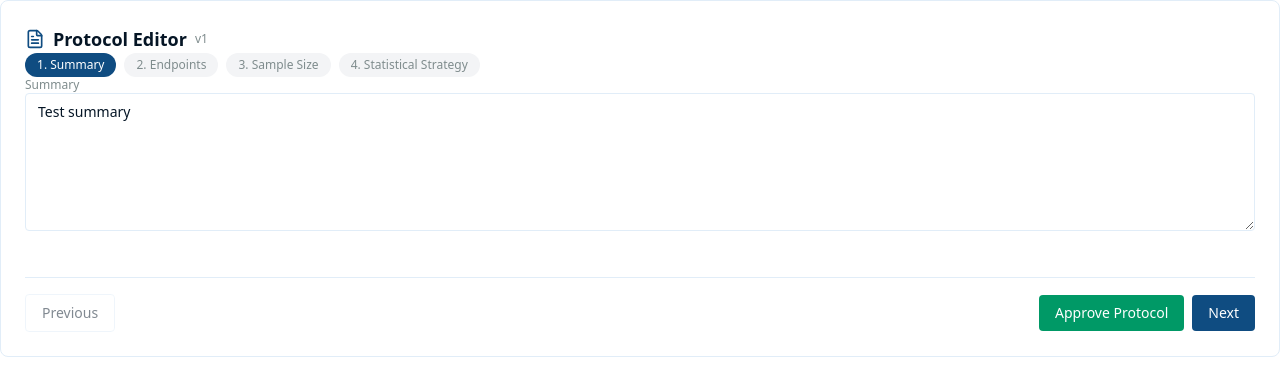
Test: ProtocolEditor › navigates to previous step
The width and height of the screenshot is (1280, 374).
Click the button with test id "next-btn". click: {"x": 1224, "y": 313}
box: [1192, 295, 1255, 331]
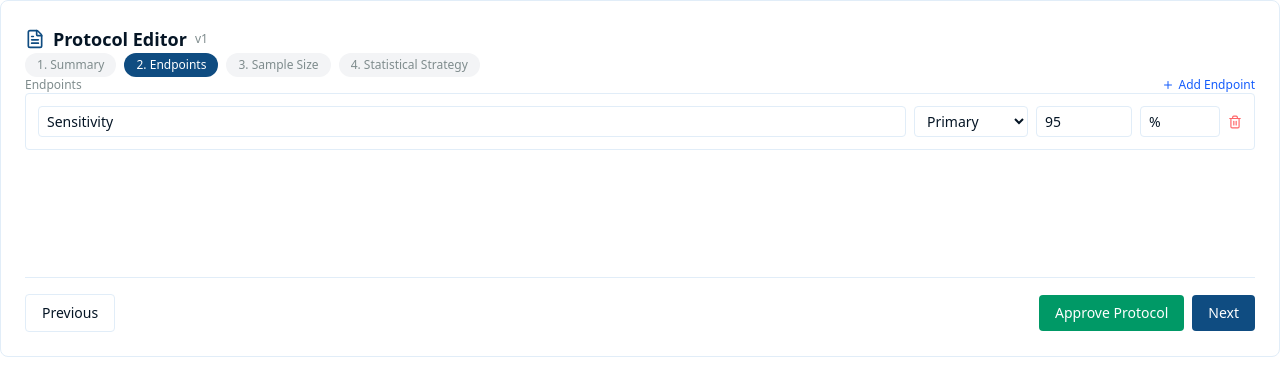
Click the button with test id "prev-btn". click: {"x": 70, "y": 313}
box: [25, 294, 115, 332]
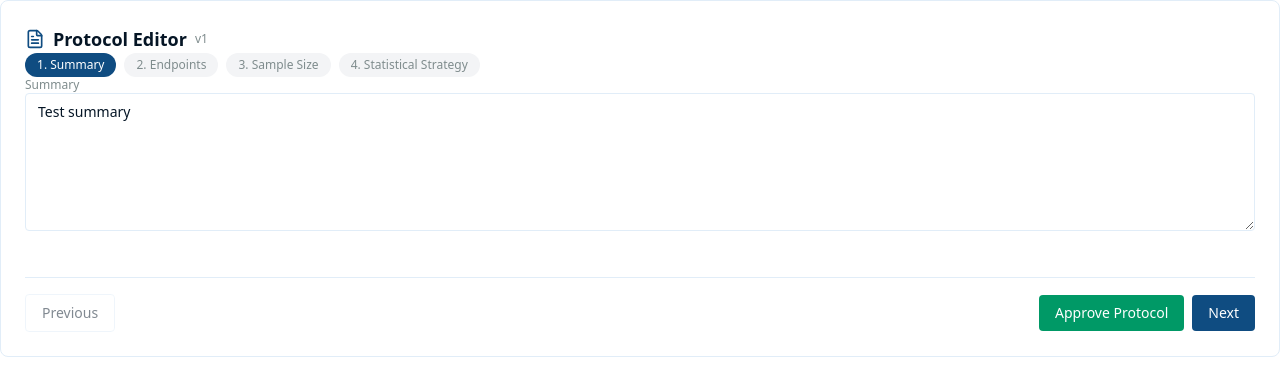
Now the element with test id "step-1-content" is shown, box [25, 77, 1255, 237]
